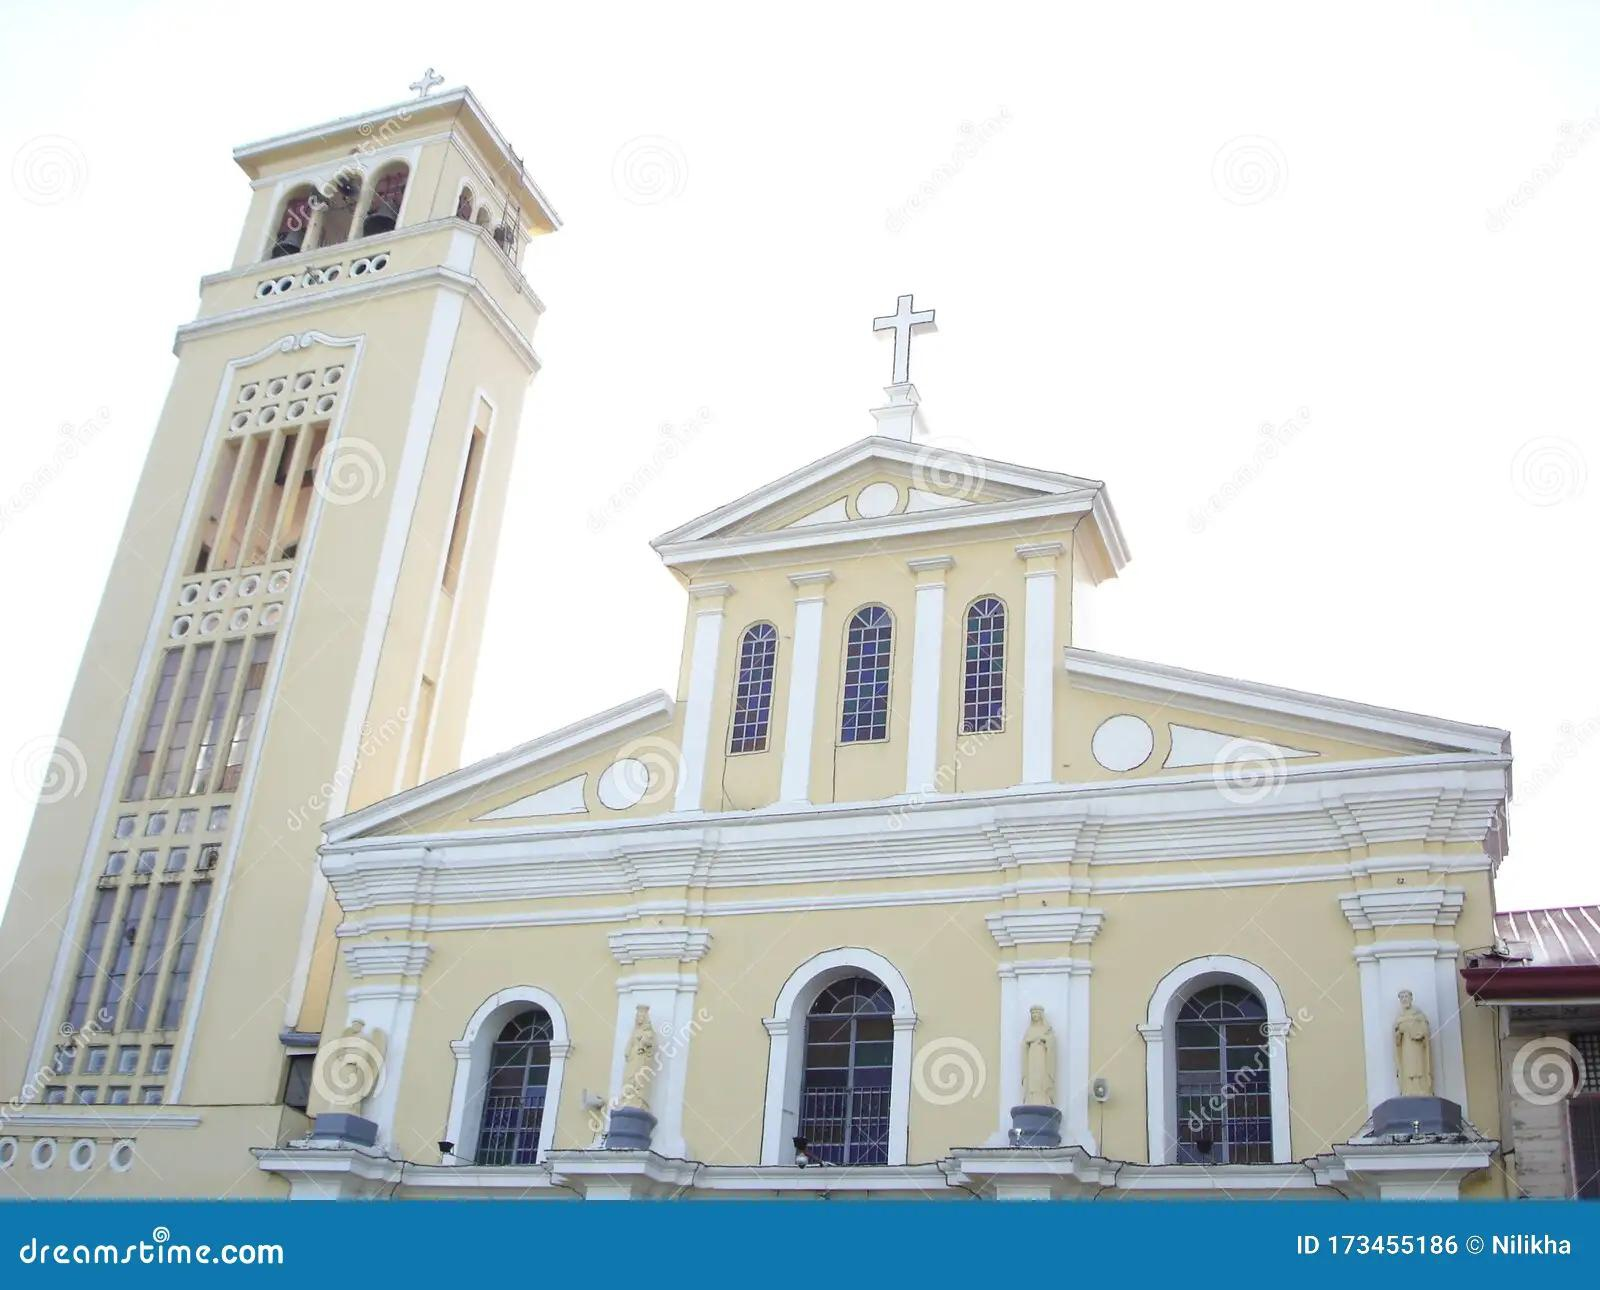manaoag_church_manaoag_pangasinan: (30, 62, 1514, 1172)
